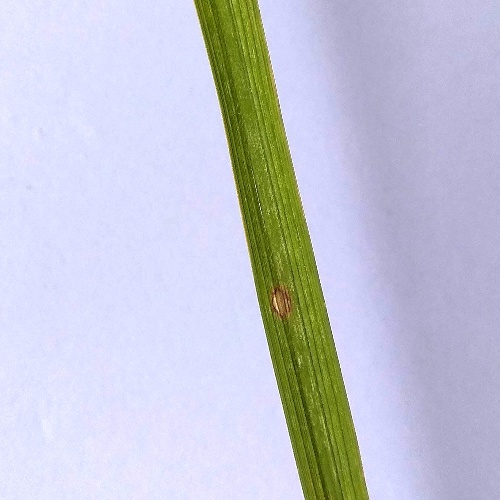Busuk Leher: (255, 273, 296, 327)
